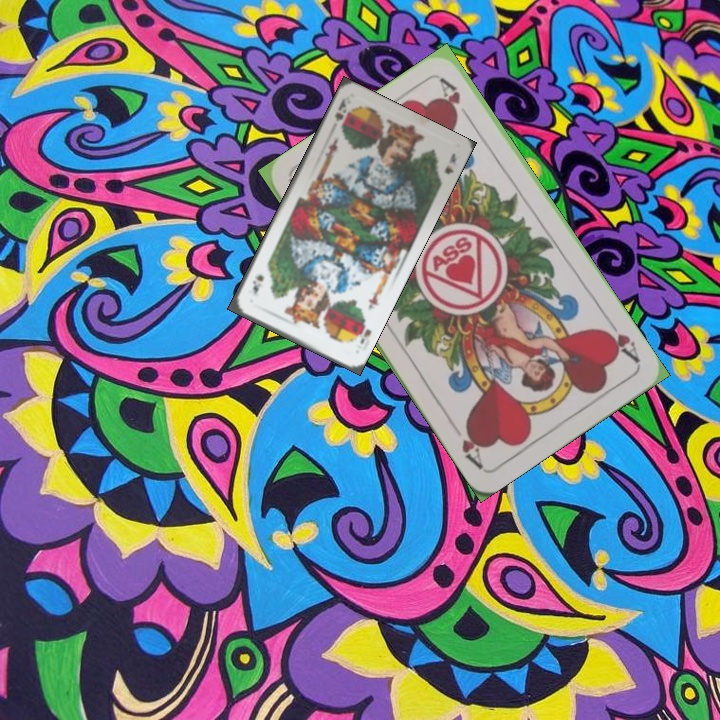HA: (597, 313, 643, 366)
SK: (330, 93, 352, 131), (351, 315, 374, 346)
